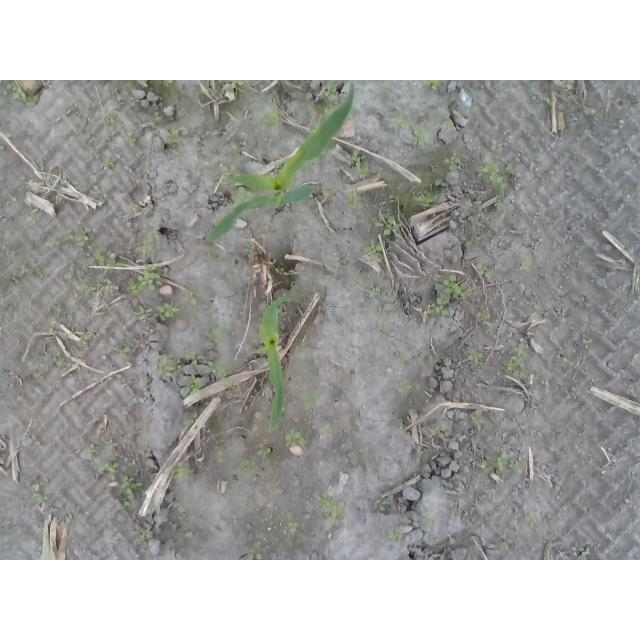Maize: (207, 81, 356, 244), (257, 295, 287, 434)
Weeds: (431, 275, 474, 317), (125, 267, 160, 297), (503, 343, 529, 378), (134, 303, 179, 322), (65, 224, 96, 251), (320, 494, 344, 527), (7, 82, 40, 106), (155, 351, 181, 381), (480, 447, 508, 471), (375, 212, 402, 236), (477, 163, 503, 186), (351, 148, 369, 180), (303, 384, 322, 413), (119, 476, 145, 497), (207, 324, 233, 344), (183, 375, 205, 397), (95, 463, 119, 482), (285, 424, 304, 447), (32, 480, 49, 504), (204, 360, 224, 380), (263, 104, 282, 125), (112, 341, 132, 360), (20, 266, 48, 279), (344, 188, 360, 210), (365, 239, 383, 257), (183, 288, 202, 305), (414, 128, 431, 147), (175, 461, 191, 481), (315, 105, 336, 120), (239, 457, 257, 474), (167, 127, 184, 145), (103, 112, 121, 129), (398, 383, 417, 399), (236, 187, 256, 202), (256, 442, 273, 458), (136, 528, 152, 545), (469, 410, 487, 425), (431, 425, 449, 440), (181, 411, 199, 426), (415, 193, 433, 208), (55, 355, 73, 370), (244, 242, 259, 259), (469, 208, 484, 225), (477, 312, 492, 329), (467, 351, 485, 365), (287, 346, 306, 359), (479, 265, 496, 279), (326, 80, 337, 101), (94, 249, 107, 266), (398, 112, 411, 129), (134, 243, 152, 255), (387, 529, 401, 544), (443, 155, 458, 169), (247, 549, 266, 560), (366, 286, 382, 299), (223, 383, 241, 394), (525, 511, 539, 525), (147, 227, 161, 241), (287, 521, 302, 534), (350, 273, 363, 288), (80, 283, 97, 294), (222, 165, 239, 176), (97, 283, 120, 291), (544, 95, 558, 108), (561, 356, 575, 369), (426, 80, 443, 90), (489, 138, 503, 150), (529, 428, 545, 438), (274, 267, 290, 277), (421, 516, 433, 529), (189, 352, 201, 365), (124, 132, 136, 145), (400, 352, 409, 369), (215, 449, 225, 464), (503, 535, 513, 550), (373, 500, 385, 512), (46, 238, 64, 246), (78, 335, 91, 346), (195, 90, 210, 99), (85, 447, 100, 456), (324, 424, 332, 440), (494, 234, 512, 241), (563, 388, 573, 400), (42, 80, 55, 89), (104, 158, 117, 167), (511, 463, 521, 474), (151, 111, 161, 122), (231, 80, 243, 89), (519, 260, 528, 272), (104, 439, 114, 449), (552, 239, 561, 250), (584, 339, 593, 350), (506, 164, 515, 175), (464, 239, 476, 247), (162, 80, 174, 88), (253, 346, 263, 355), (264, 215, 273, 225), (491, 210, 497, 225), (375, 307, 385, 316), (8, 276, 17, 285), (520, 298, 530, 306), (47, 327, 57, 335), (120, 497, 128, 507), (382, 80, 392, 88), (511, 494, 519, 503), (494, 202, 502, 211), (226, 203, 237, 209), (398, 424, 406, 432), (88, 136, 96, 144), (164, 256, 173, 261), (0, 79, 4, 88), (520, 556, 528, 560)
